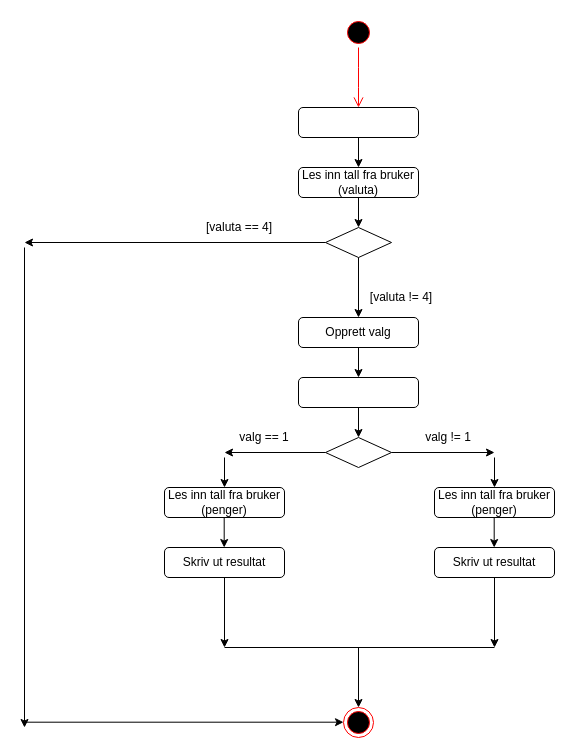
Image size: 572x755. Some labels were removed from this diagram. Here are the shapes that lost their labels. From the top down, the centre of each, then its label:
pixel 358 122: Opprett penger og valuta
pixel 358 392: Les inn tall fra bruker (valg)
